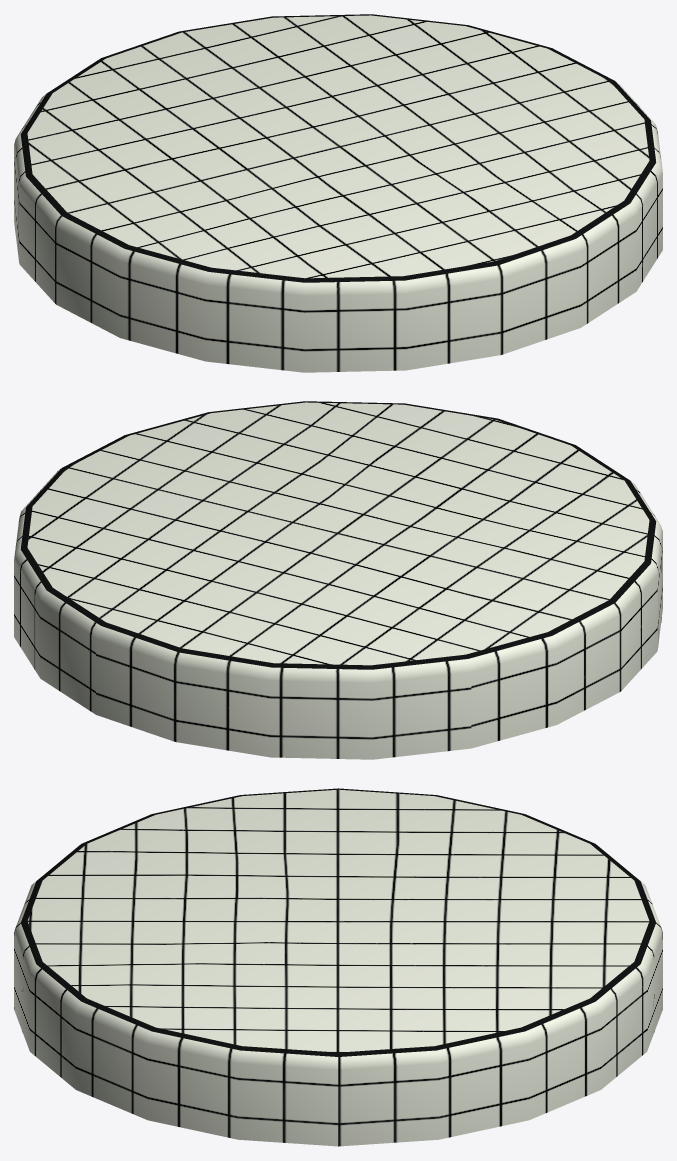
File: Pillar_top.fbx
3 views of the same model, one above another, from view 1: azimuth 30°, elevation 25°; view 2: azimuth 150°, elevation 25°; view 3: azimuth 270°, elevation 25° (orthographic).
Visible parts, largest first — view 1: Pillar_top; view 2: Pillar_top; view 3: Pillar_top.
Part boxes in pixels (<box>): Pillar_top: <box>14,14,662,372</box>; Pillar_top: <box>14,401,662,759</box>; Pillar_top: <box>14,788,662,1146</box>.
Size of the model in its own units: 200 by 30 by 200.
